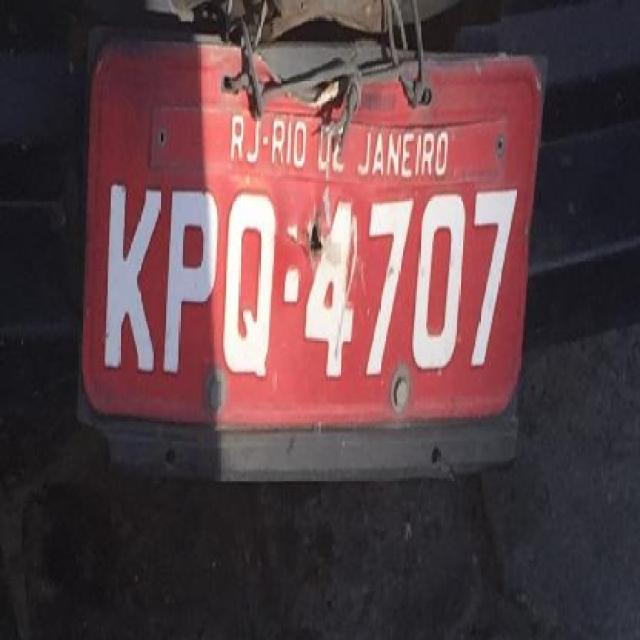old_plate: (64, 27, 553, 430)
